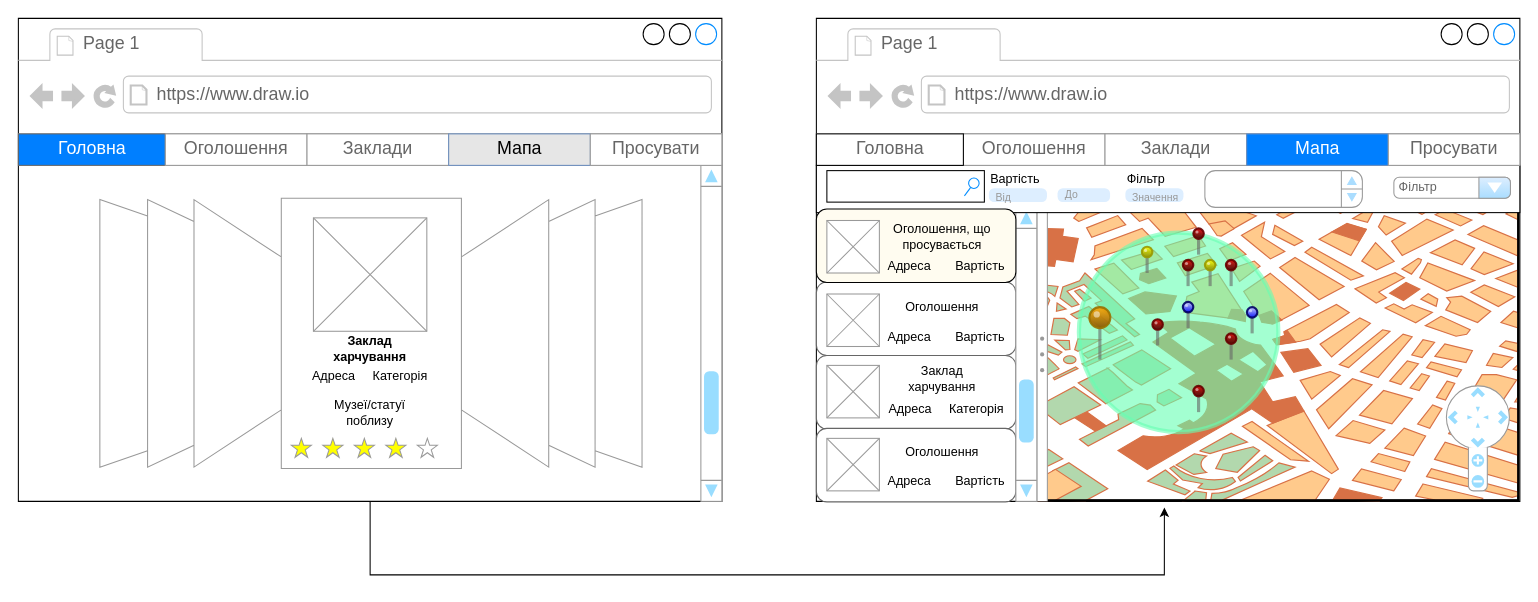
Some shapes in this 1538 by 602 pixel diagram are drawn without their labels. The shapes that lost their labels are listed below. From the top down, each one's centre as x and y in pixels, then its label:
point 905,186: Пошук
point 1283,188: Радіус
